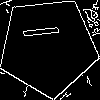I: (23, 21, 69, 40)
